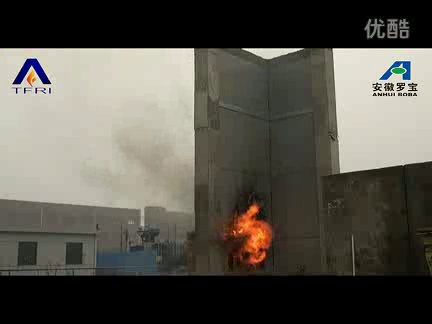fire: (221, 196, 277, 273)
